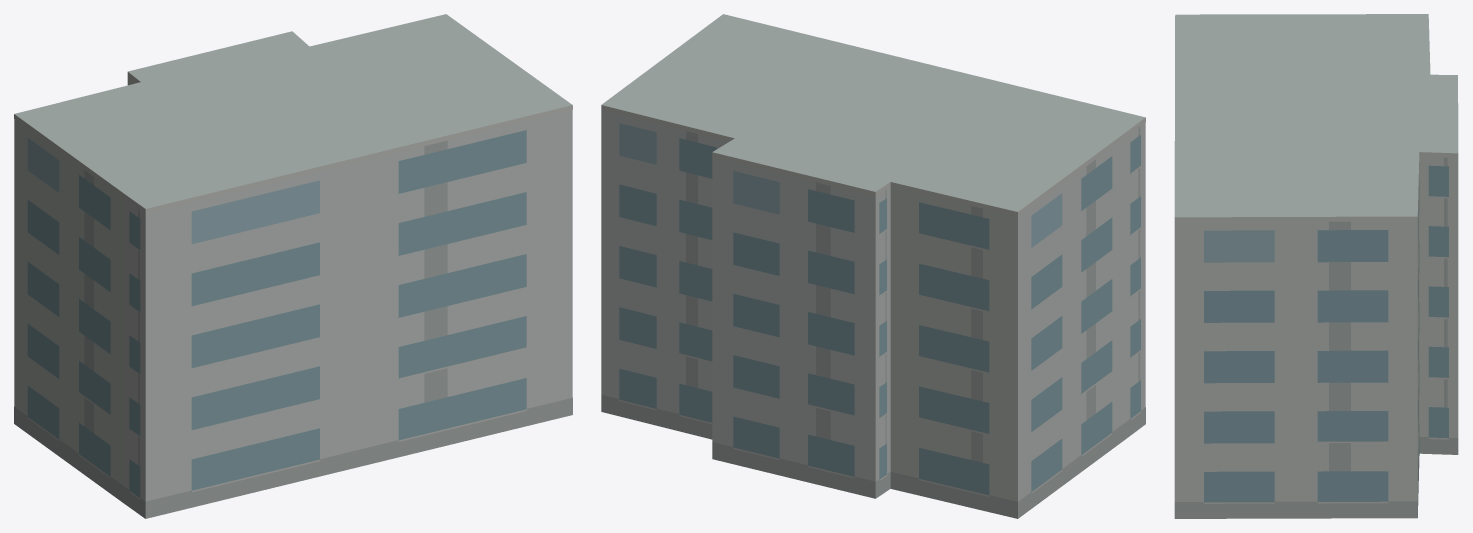
Rendered from survey-upis-32774571.glb.
3 views of the same model, side by side, from view 1: azimuth 30°, elevation 25°; view 2: azimuth 150°, elevation 25°; view 3: azimuth 270°, elevation 25° (orthographic). The views are drawn at different scales.
Parts seen in each view (by area): view 1: survey-upis-32774571.tmp; view 2: survey-upis-32774571.tmp; view 3: survey-upis-32774571.tmp.
Boxes of the visible parts, <box> form: survey-upis-32774571.tmp: <box>14,14,572,518</box>; survey-upis-32774571.tmp: <box>601,14,1145,518</box>; survey-upis-32774571.tmp: <box>1174,14,1458,518</box>.
Size of the model in its own units: 22.06 by 15.25 by 13.03.
